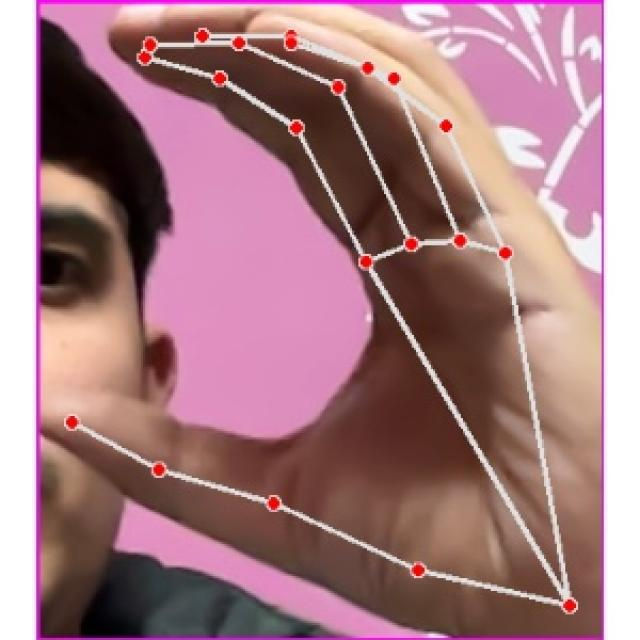C: (55, 4, 606, 639)
